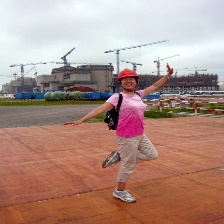helmet: (114, 68, 142, 81)
no-vest: (109, 93, 153, 137)
person: (97, 67, 159, 206)
